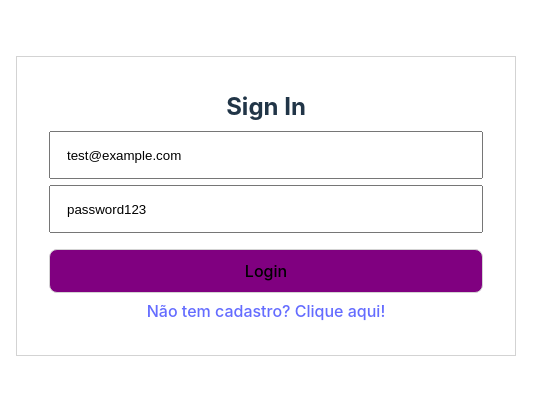
Scenario: Testa a pagina de login › Quando clicar em Sign Up deve ir para a pagina de cadastre-se
The width and height of the screenshot is (533, 413).
Click the link "Não tem cadastro? Clique aqui!".
click(267, 311)  # box [147,301,386,321]
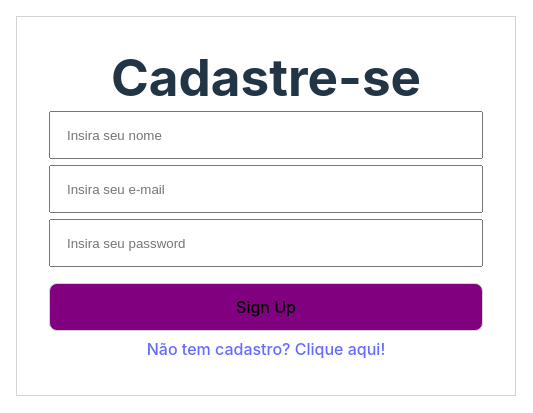
Expected: the heading "Cadastre-se" is shown, [111,46,421,108]
